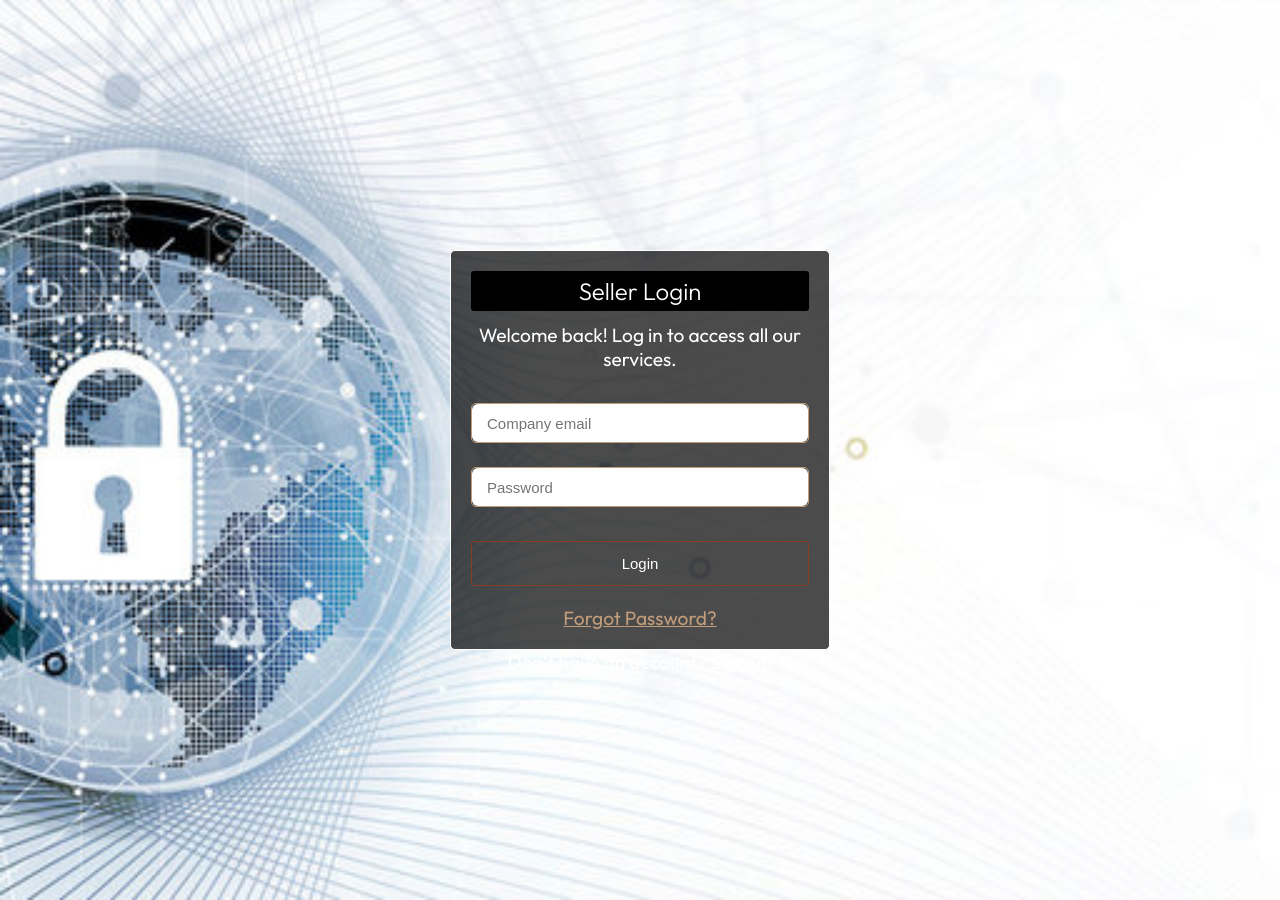
Scenario: Seller_login Component › should show validation error for missing email
The image size is (1280, 900).
Step 1. Type "password123" into the password field with placeholder "Password" → point(640, 487), box [472,468,808,506]
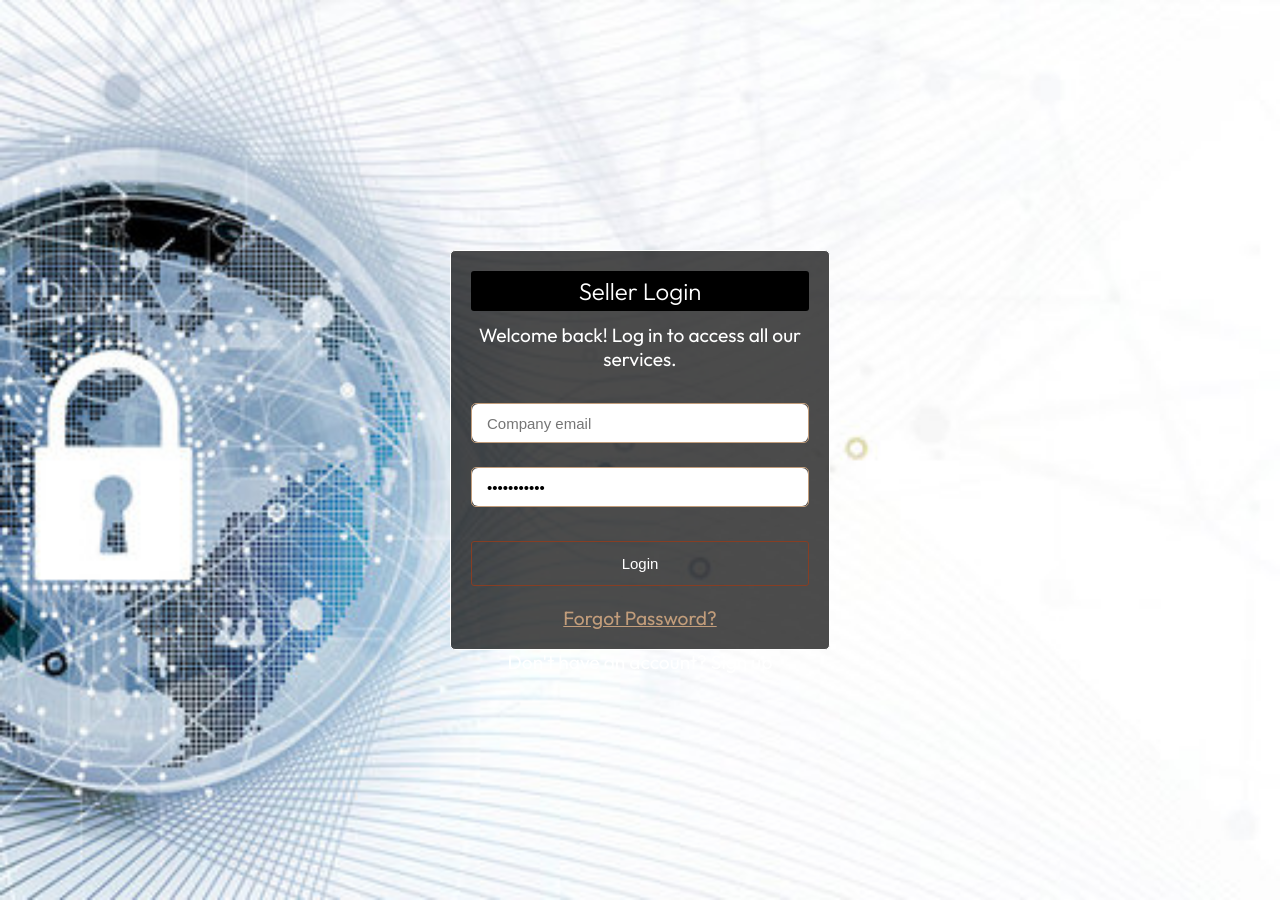
Step 2. Click the button "Login" → point(640, 564), box [471,541,809,586]
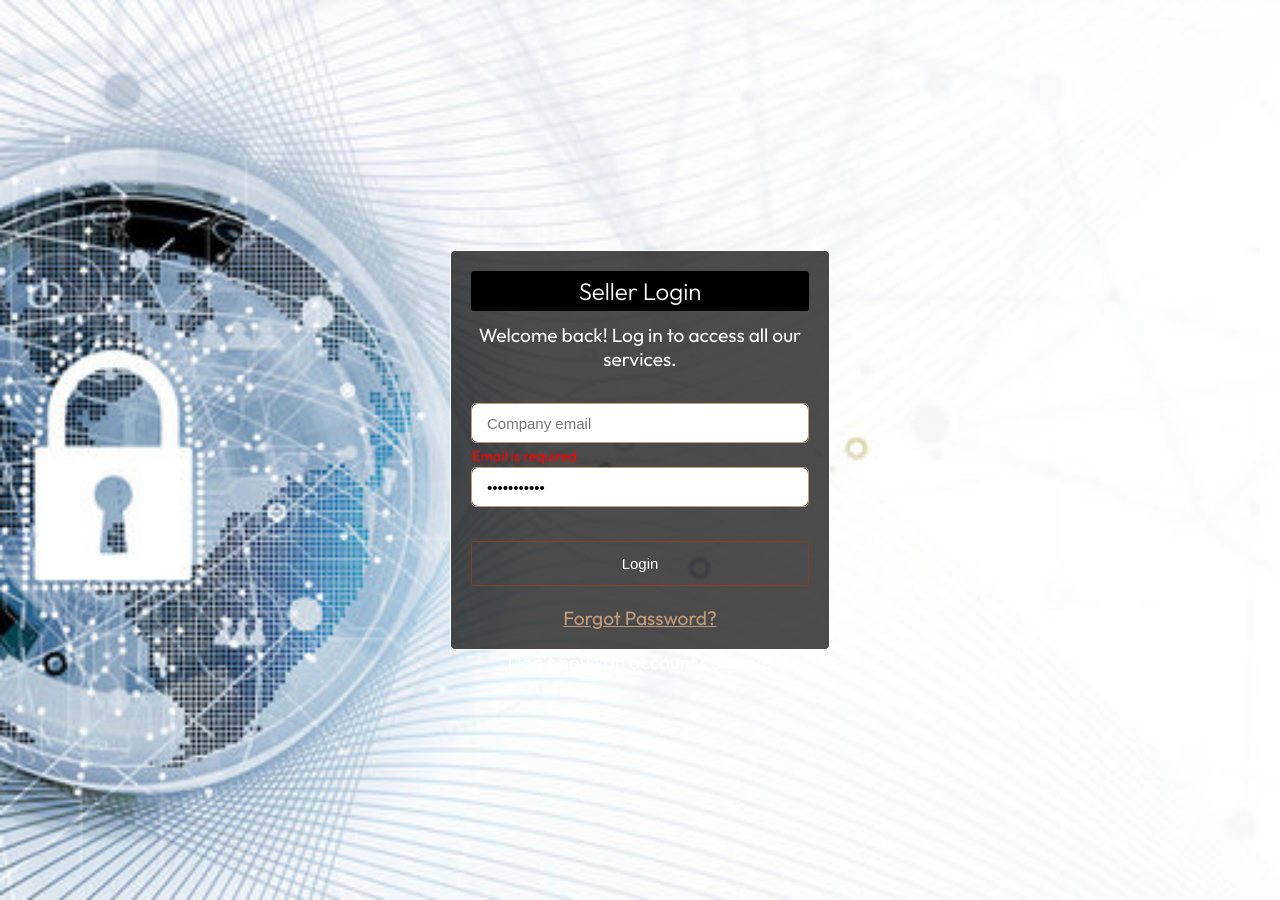
Now the text "Email is required." is shown, box [472,447,581,465]
